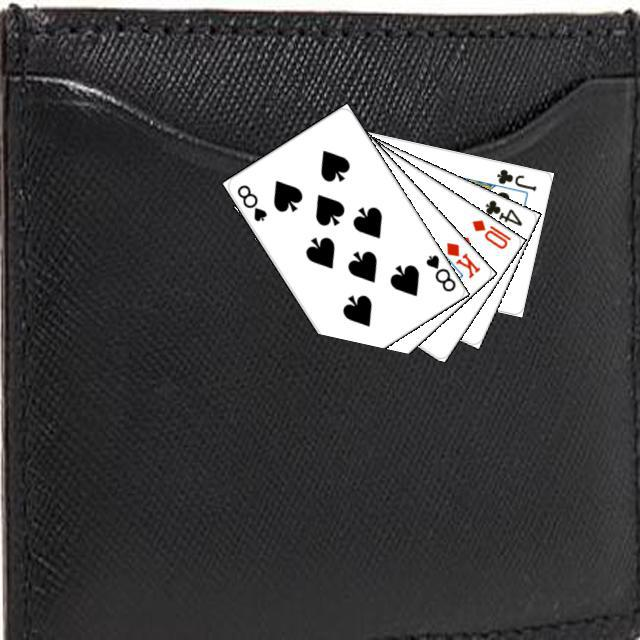10d: (467, 215, 513, 251)
4c: (480, 195, 524, 228)
8s: (421, 250, 458, 294), (232, 179, 269, 223)
Jc: (492, 164, 538, 193)
Kd: (441, 237, 482, 280)
